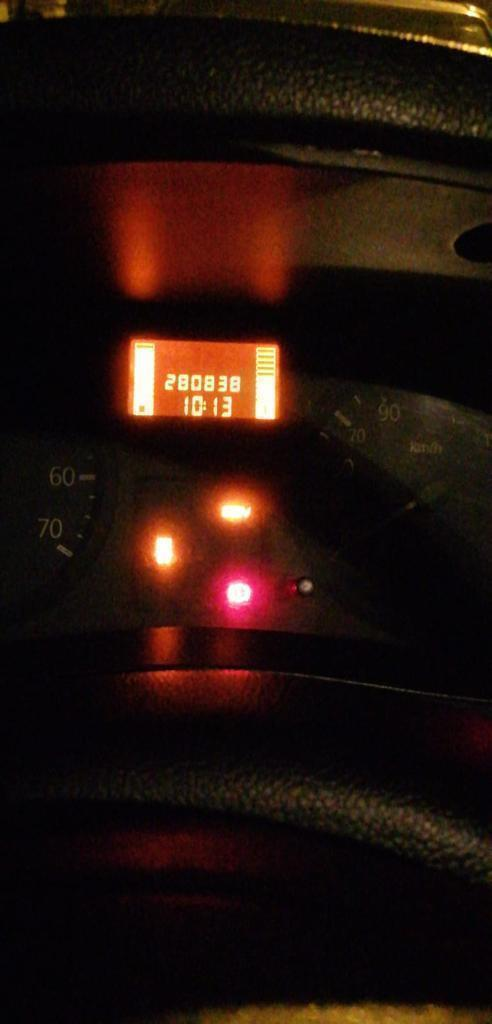0: (190, 393, 202, 417), (189, 373, 201, 392)
1: (211, 395, 219, 417), (181, 394, 189, 416)
2: (164, 371, 176, 391)
3: (220, 395, 232, 418), (217, 374, 227, 392)
8: (228, 374, 241, 393), (176, 373, 189, 392), (202, 373, 214, 392)
X: (202, 399, 207, 411)
odometer: (122, 335, 283, 424)
